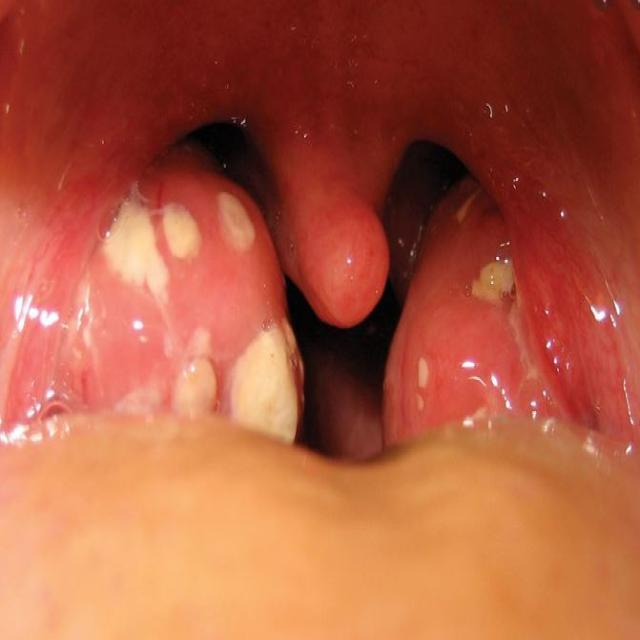pharyngitis: (55, 102, 306, 435), (385, 156, 640, 451)
